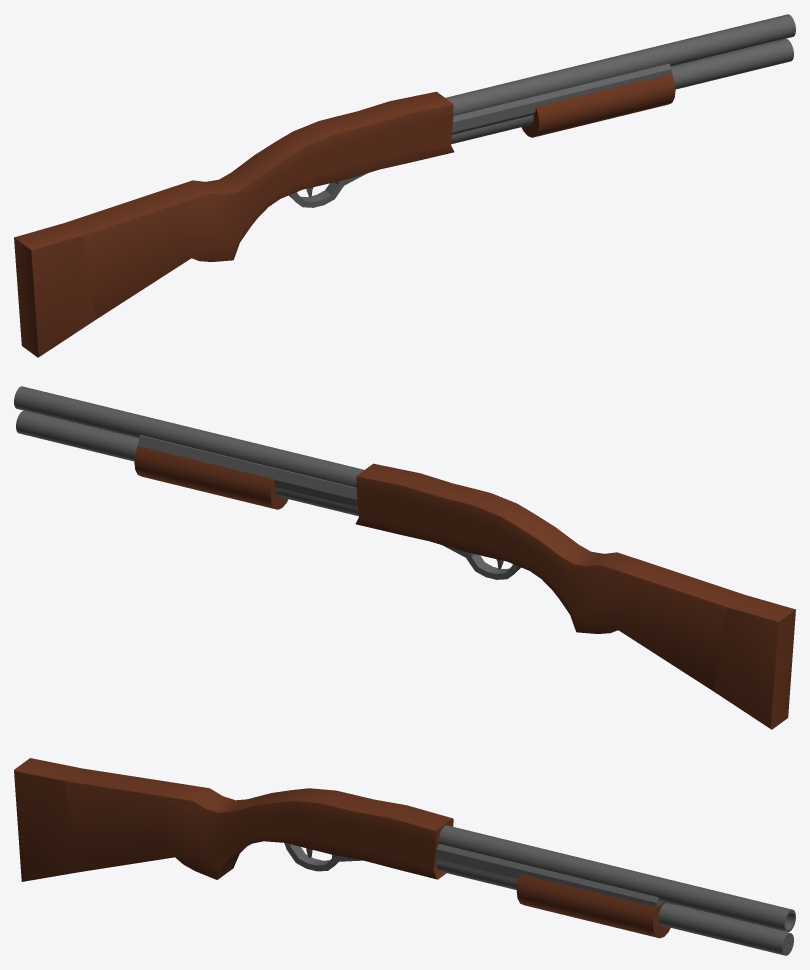
File: shotgun.fbx
3 renders of one model, top to bottom at view 1: azimuth 30°, elevation 25°; view 2: azimuth 150°, elevation 25°; view 3: azimuth 330°, elevation 25°, orthographic.
Visible parts, largest first — view 1: Plane, Cylinder, Cylinder.003, Cylinder.001, Cylinder.002, Cube; view 2: Plane, Cylinder, Cylinder.003, Cylinder.001, Cylinder.002, Cube; view 3: Plane, Cylinder, Cylinder.003, Cylinder.001, Cylinder.002, Cube.
Part boxes in pixels (<box>): Plane: <box>14,91,454,357</box>; Cylinder: <box>446,14,795,115</box>; Cylinder.003: <box>521,73,675,137</box>; Cylinder.001: <box>451,39,793,144</box>; Cylinder.002: <box>452,63,671,134</box>; Cube: <box>289,173,367,207</box>; Plane: <box>355,463,795,729</box>; Cylinder: <box>14,386,363,487</box>; Cylinder.003: <box>134,446,288,509</box>; Cylinder.001: <box>16,411,358,516</box>; Cylinder.002: <box>138,435,357,507</box>; Cube: <box>442,545,520,579</box>; Plane: <box>14,758,453,881</box>; Cylinder: <box>438,825,795,932</box>; Cylinder.003: <box>516,874,670,938</box>; Cylinder.001: <box>436,861,793,955</box>; Cylinder.002: <box>436,843,662,907</box>; Cube: <box>284,843,362,871</box>.
Bounding box in the file's own units: 822 × 158 × 41.82.
